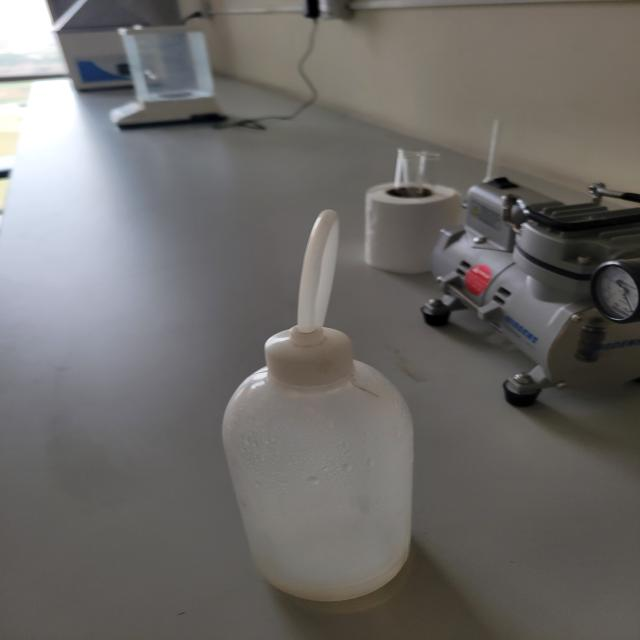Wash_Bottle: (157, 170, 499, 640)
